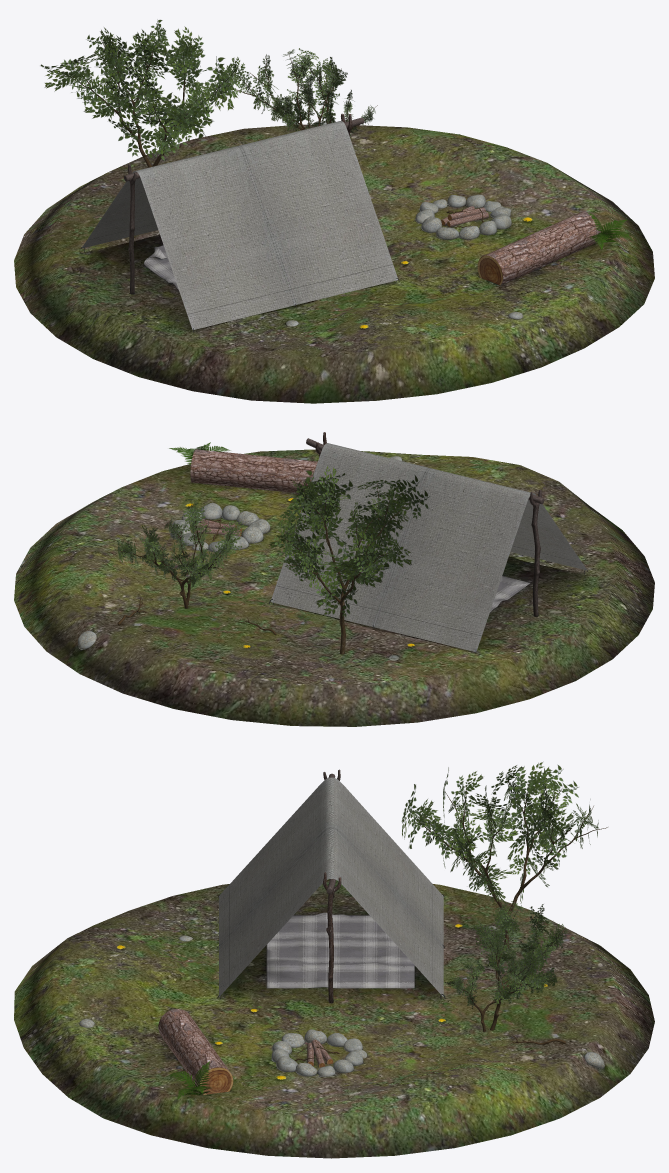
The model's file is tent-opt.glb.
The picture shows the model from 3 angles, top to bottom: view 1: azimuth 30°, elevation 25°; view 2: azimuth 150°, elevation 25°; view 3: azimuth 270°, elevation 25°; orthographic projection.
Visible parts, largest first — view 1: ground_0, tent, leaf_0, log_0, stone.010_0, tree.002_0, fern_0, blanket_0, fork2_0; view 2: ground_0, tent, leaf_0, log_0, stone.010_0, tree.002_0, fork2_0, blanket_0, tree.004_0; view 3: ground_0, tent, leaf_0, blanket_0, log_0, stone.010_0, tree.002_0, fern_0, fork1_0.
Part boxes in pixels (bbox=[...]): ground_0: bbox=[14, 124, 654, 403]; tent: bbox=[81, 120, 397, 329]; leaf_0: bbox=[40, 19, 375, 160]; log_0: bbox=[441, 206, 600, 285]; stone.010_0: bbox=[286, 120, 522, 326]; tree.002_0: bbox=[73, 35, 238, 167]; fern_0: bbox=[587, 212, 632, 250]; blanket_0: bbox=[144, 245, 178, 290]; fork2_0: bbox=[128, 164, 136, 294]; ground_0: bbox=[14, 449, 654, 726]; tent: bbox=[271, 443, 587, 651]; leaf_0: bbox=[117, 466, 429, 623]; log_0: bbox=[190, 449, 317, 536]; stone.010_0: bbox=[78, 456, 402, 649]; tree.002_0: bbox=[285, 476, 409, 654]; fork2_0: bbox=[529, 489, 541, 616]; blanket_0: bbox=[490, 576, 530, 612]; tree.004_0: bbox=[115, 500, 233, 608]; ground_0: bbox=[14, 879, 654, 1158]; tent: bbox=[219, 777, 443, 996]; leaf_0: bbox=[401, 762, 598, 1008]; blanket_0: bbox=[266, 912, 414, 988]; log_0: bbox=[158, 1009, 333, 1094]; stone.010_0: bbox=[79, 935, 604, 1076]; tree.002_0: bbox=[411, 780, 607, 949]; fern_0: bbox=[165, 1061, 212, 1100]; fork1_0: bbox=[323, 872, 341, 1003].
Bounding box in the file's own units: 15.55 × 5.38 × 15.39.
17 materials, 16 textured.
